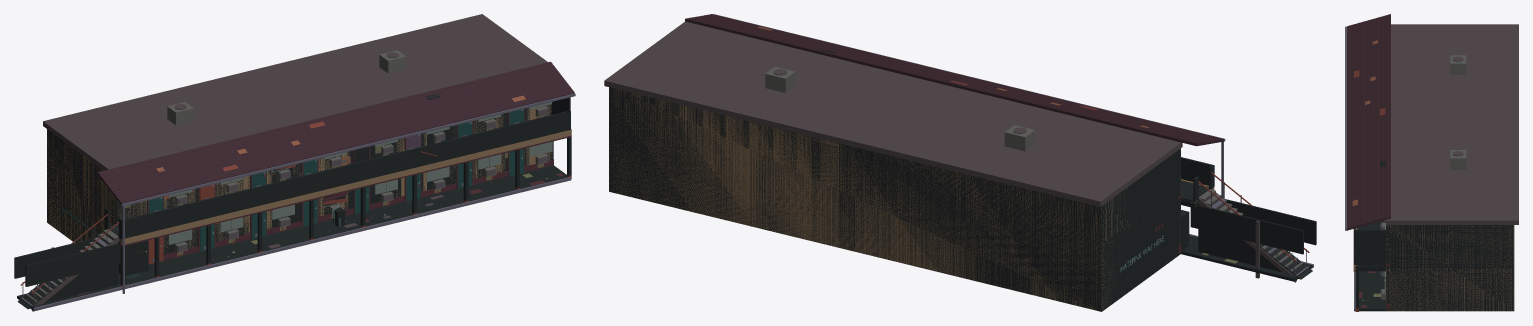
Rendered from motel_cladire.glb.
3 renders of one model, left to right at view 1: azimuth 30°, elevation 25°; view 2: azimuth 150°, elevation 25°; view 3: azimuth 270°, elevation 25°, orthographic. The views are drawn at different scales.
Parts seen in each view (by area): view 1: Motel, Coliziune; view 2: Motel, Coliziune; view 3: Motel, Coliziune.
Boxes of the visible parts, <box> form: Motel: <box>20,14,575,311</box>; Coliziune: <box>14,97,571,309</box>; Motel: <box>604,14,1313,311</box>; Coliziune: <box>609,87,1316,311</box>; Motel: <box>1345,14,1518,311</box>; Coliziune: <box>1354,220,1514,311</box>.
Bounding box in the file's own units: 35.87 × 7.55 × 10.87.
